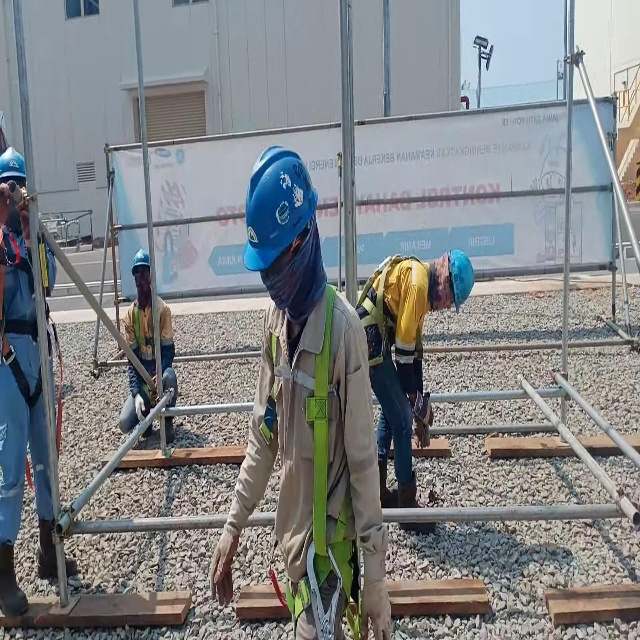Arnes_seguridad: (261, 275, 365, 640), (0, 217, 65, 491), (355, 249, 430, 367), (129, 290, 164, 412)
